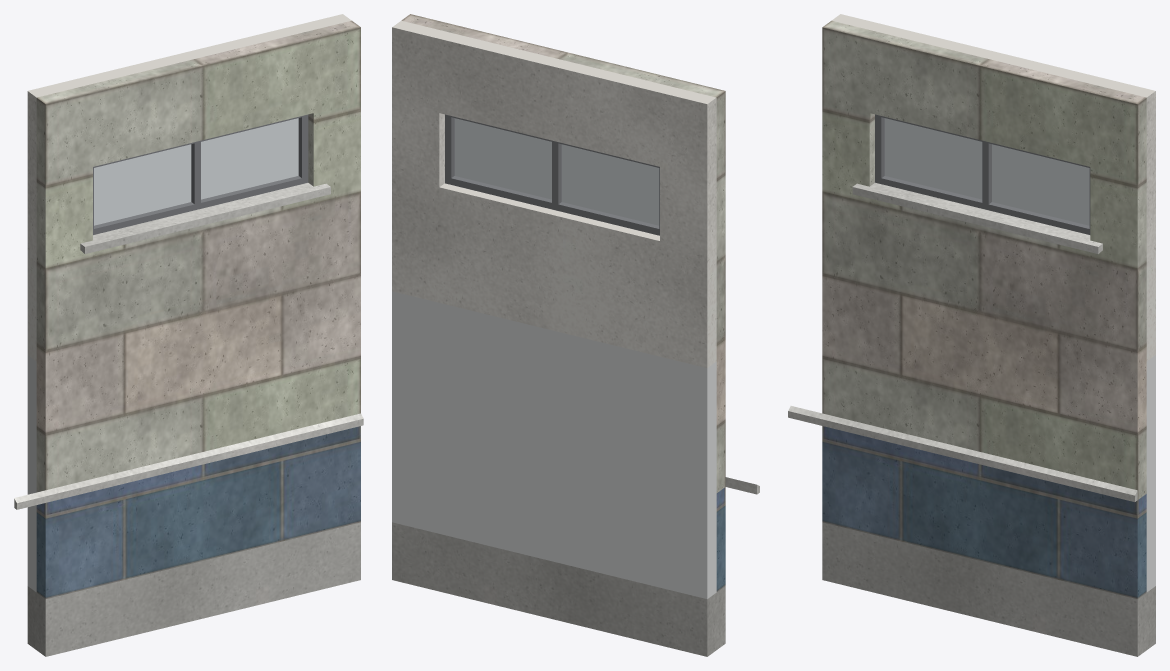
The model's file is r_win_ea.glb.
The picture shows the model from 3 angles, left to right: view 1: azimuth 30°, elevation 25°; view 2: azimuth 150°, elevation 25°; view 3: azimuth 330°, elevation 25°; orthographic projection.
Parts seen in each view (by area): view 1: r_win_ea_cmu, r_win_ea_cmu2, r_win_ea_concrete, r_win_ea_frost, r_win_ea_coping, r_win_ea_plaster, r_win_ea_frame, r_win_ea_tile; view 2: r_win_ea_tile, r_win_ea_plaster, r_win_ea_concrete, r_win_ea_frost, r_win_ea_cmu, r_win_ea_frame, r_win_ea_cmu2; view 3: r_win_ea_cmu, r_win_ea_cmu2, r_win_ea_concrete, r_win_ea_frost, r_win_ea_coping, r_win_ea_plaster, r_win_ea_frame, r_win_ea_tile.
Boxes of the visible parts, bbox=[...] form: r_win_ea_cmu: bbox=[36, 20, 360, 492]; r_win_ea_cmu2: bbox=[36, 426, 360, 598]; r_win_ea_concrete: bbox=[27, 522, 360, 656]; r_win_ea_frost: bbox=[94, 118, 298, 225]; r_win_ea_coping: bbox=[14, 183, 363, 509]; r_win_ea_plaster: bbox=[27, 14, 351, 361]; r_win_ea_frame: bbox=[93, 114, 308, 234]; r_win_ea_tile: bbox=[27, 355, 36, 592]; r_win_ea_tile: bbox=[392, 291, 716, 599]; r_win_ea_plaster: bbox=[392, 20, 716, 368]; r_win_ea_concrete: bbox=[392, 522, 725, 656]; r_win_ea_frost: bbox=[454, 118, 659, 225]; r_win_ea_cmu: bbox=[401, 14, 725, 492]; r_win_ea_frame: bbox=[445, 114, 659, 235]; r_win_ea_cmu2: bbox=[716, 487, 725, 591]; r_win_ea_cmu: bbox=[822, 20, 1146, 499]; r_win_ea_cmu2: bbox=[822, 426, 1146, 598]; r_win_ea_concrete: bbox=[822, 522, 1155, 656]; r_win_ea_frost: bbox=[884, 118, 1089, 225]; r_win_ea_coping: bbox=[788, 182, 1137, 501]; r_win_ea_plaster: bbox=[832, 14, 1155, 361]; r_win_ea_frame: bbox=[875, 114, 1090, 234]; r_win_ea_tile: bbox=[1146, 355, 1155, 592].
Size of the model in its own units: 2.2 by 3.35 by 0.25.
Materials: 8 (5 with a texture image).
